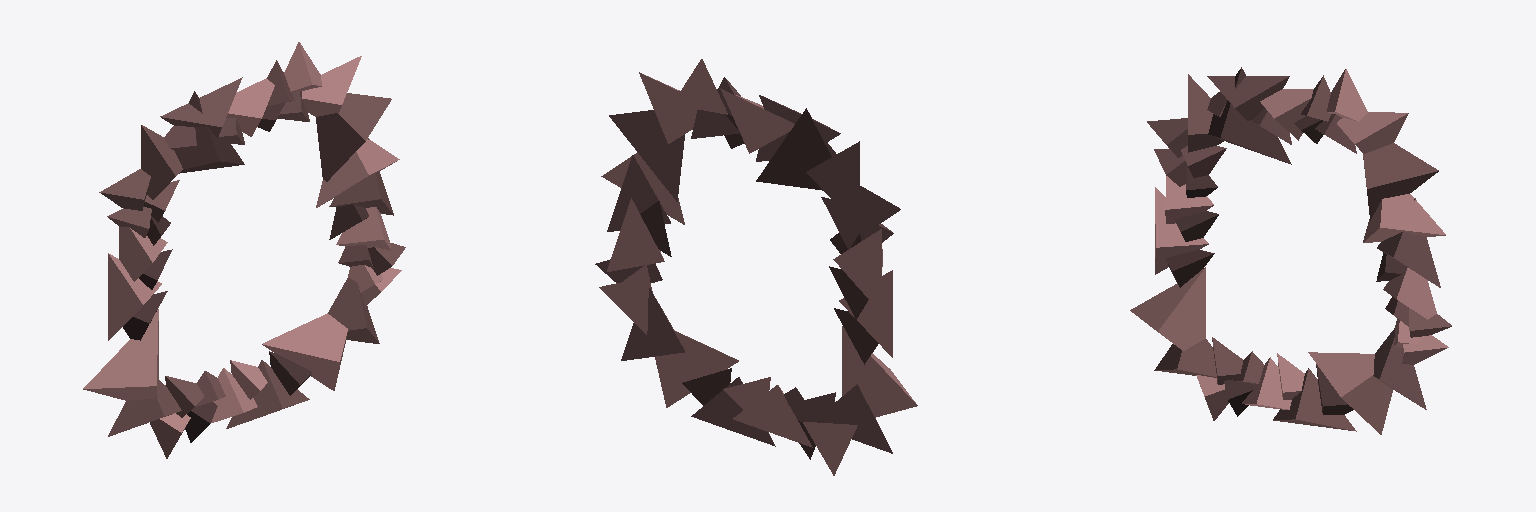
File: montanas.obj
The picture shows the model from 3 angles: view 1: azimuth 30°, elevation 25°; view 2: azimuth 150°, elevation 25°; view 3: azimuth 330°, elevation 25°; orthographic projection.
Visible parts, largest first — view 1: Object.40, Object.30, Object.20, Object.6, Object.17, Object.10, Object.26, Object.8, Object.18, Object.28, Object.36, Object.38 (+24 smaller); view 2: Object.40, Object.10, Object.30, Object.20, Object.3, Object.23, Object.33, Object.13, Object.18, Object.28, Object.38, Object.8 (+17 smaller); view 3: Object.40, Object.20, Object.30, Object.17, Object.10, Object.26, Object.18, Object.28, Object.36, Object.16, Object.6, Object.38 (+23 smaller).
Part boxes in pixels (bbox=[...]): Object.40: bbox=[83, 309, 158, 400]; Object.30: bbox=[316, 93, 391, 181]; Object.20: bbox=[262, 313, 347, 390]; Object.6: bbox=[108, 253, 161, 340]; Object.17: bbox=[316, 139, 399, 207]; Object.10: bbox=[174, 91, 244, 173]; Object.26: bbox=[160, 77, 242, 137]; Object.8: bbox=[141, 125, 182, 199]; Object.18: bbox=[328, 278, 379, 343]; Object.28: bbox=[302, 56, 361, 116]; Object.36: bbox=[226, 360, 309, 428]; Object.38: bbox=[108, 380, 181, 436]; Object.40: bbox=[842, 326, 917, 417]; Object.10: bbox=[756, 108, 831, 190]; Object.30: bbox=[609, 110, 684, 201]; Object.20: bbox=[655, 330, 738, 407]; Object.3: bbox=[833, 229, 882, 313]; Object.23: bbox=[720, 88, 794, 153]; Object.33: bbox=[733, 385, 812, 447]; Object.13: bbox=[607, 198, 664, 271]; Object.18: bbox=[621, 288, 684, 360]; Object.28: bbox=[639, 72, 697, 143]; Object.38: bbox=[833, 384, 892, 453]; Object.8: bbox=[806, 141, 859, 203]; Object.40: bbox=[1130, 267, 1205, 350]; Object.20: bbox=[1308, 352, 1392, 434]; Object.30: bbox=[1363, 143, 1438, 220]; Object.17: bbox=[1363, 194, 1445, 242]; Object.10: bbox=[1208, 67, 1291, 164]; Object.26: bbox=[1207, 76, 1289, 120]; Object.18: bbox=[1373, 328, 1426, 409]; Object.28: bbox=[1337, 112, 1408, 153]; Object.36: bbox=[1273, 368, 1356, 431]; Object.16: bbox=[1377, 198, 1440, 287]; Object.6: bbox=[1155, 187, 1208, 274]; Object.38: bbox=[1154, 339, 1216, 377].
Bounding box in the file's own units: 1566 × 1788 × 193.